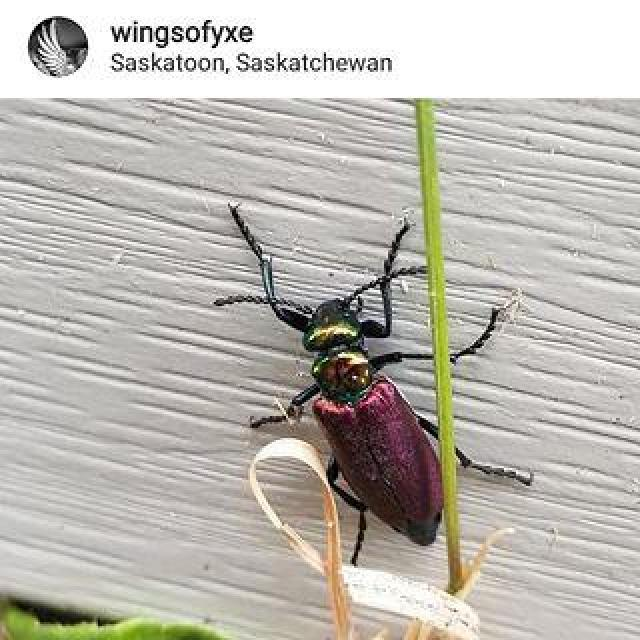BlisterBeetle-Adult-: (215, 178, 548, 569)
